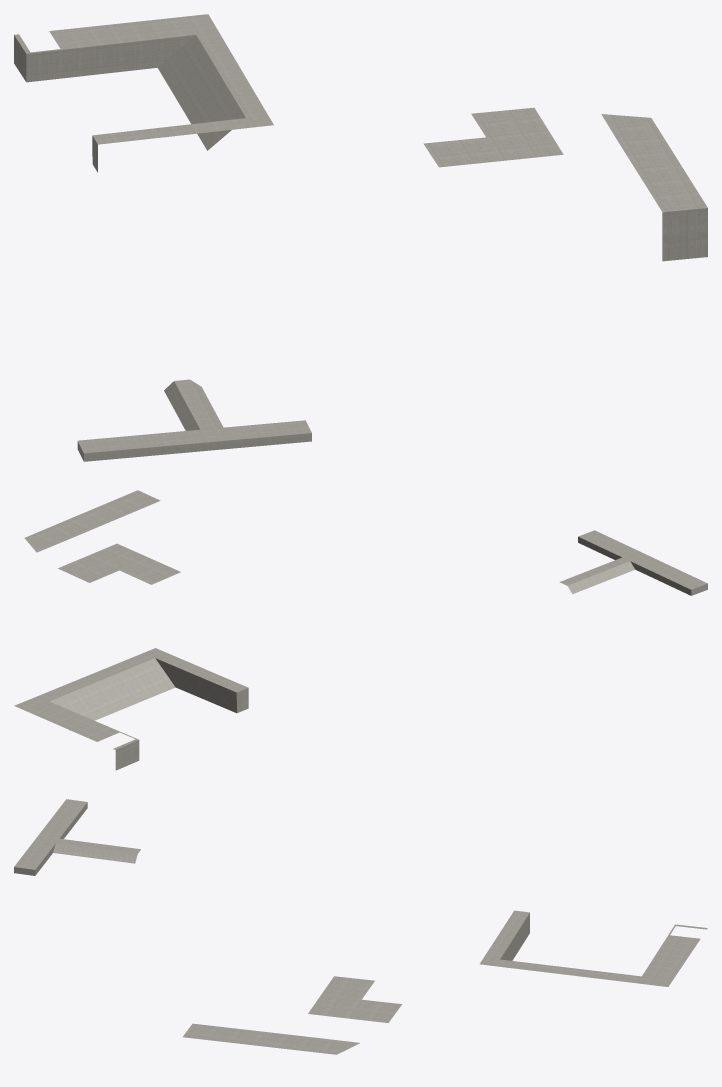
The model's file is kd_stage_136599_2_1.glb.
3 renders of one model, top to bottom at view 1: azimuth 30°, elevation 25°; view 2: azimuth 150°, elevation 25°; view 3: azimuth 270°, elevation 25°, orthographic. The views are drawn at different scales.
Parts seen in each view (by area): view 1: kd_stage_136599_2_1; view 2: kd_stage_136599_2_1; view 3: kd_stage_136599_2_1.
Boxes of the visible parts, <box> form: kd_stage_136599_2_1: <box>14,14,707,461</box>; kd_stage_136599_2_1: <box>14,490,707,770</box>; kd_stage_136599_2_1: <box>14,799,707,1054</box>.
Bounding box in the file's own units: 483 × 32.51 × 531.
1 material, 1 textured.
